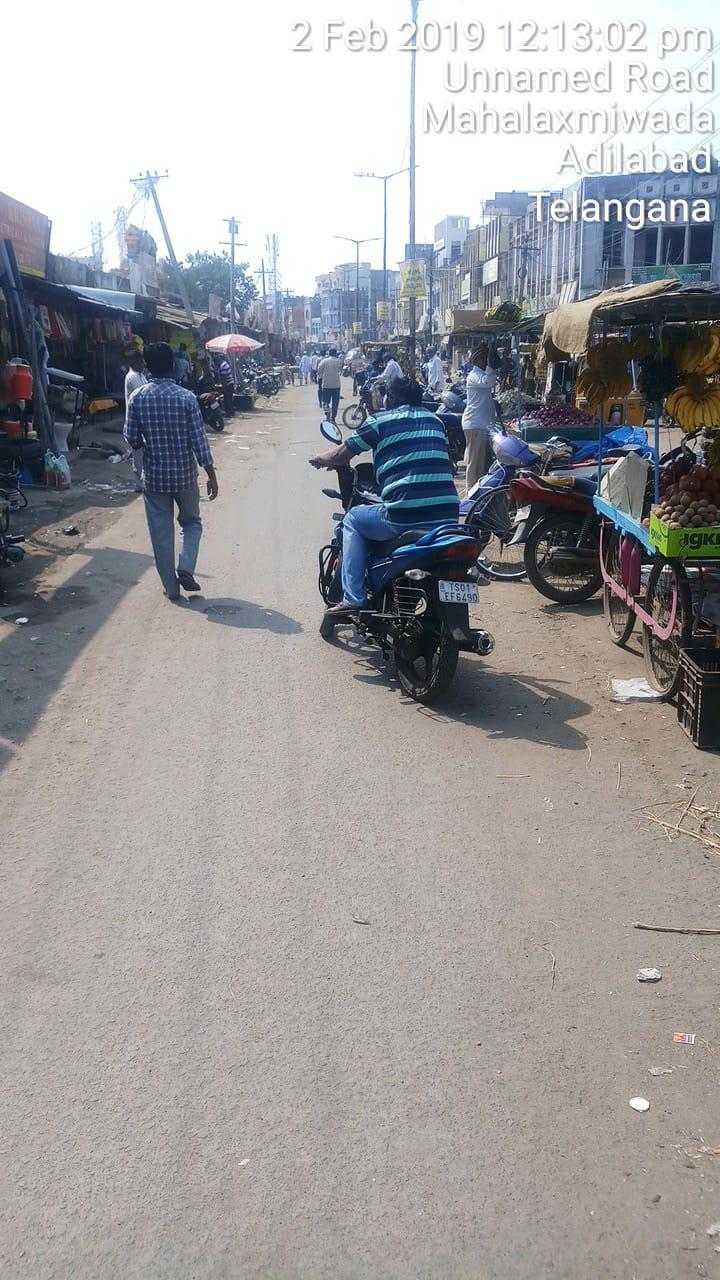plate: (432, 572, 489, 612)
